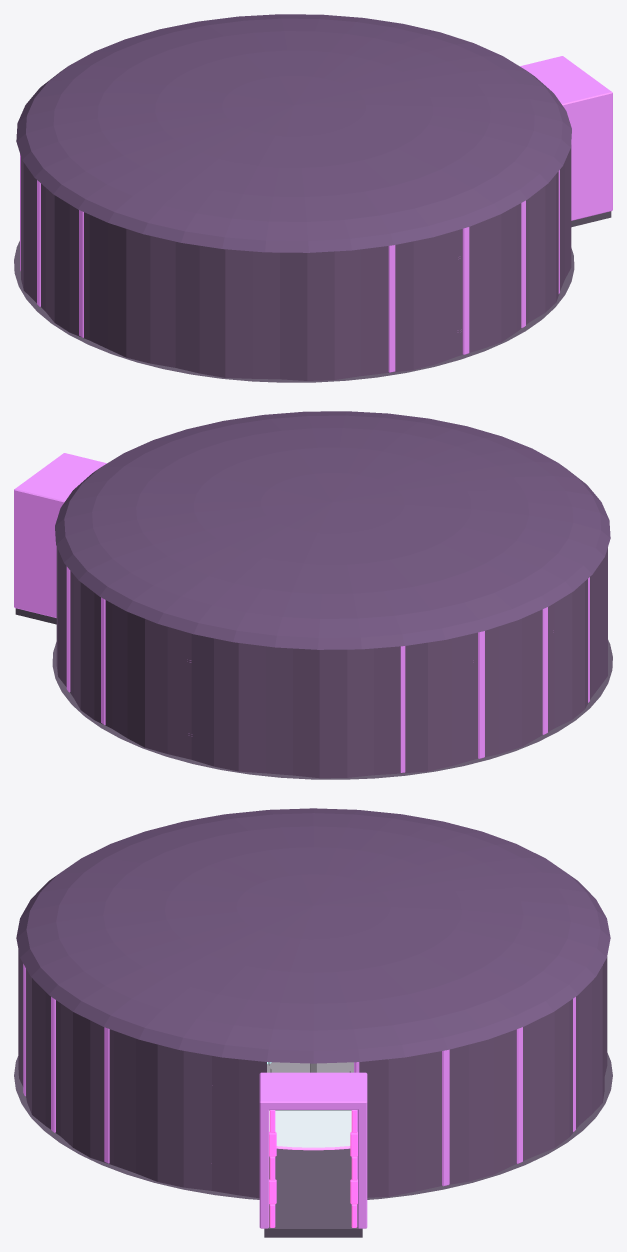
File: ship_hall.glb
3 views of the same model, one above another, from view 1: azimuth 30°, elevation 25°; view 2: azimuth 150°, elevation 25°; view 3: azimuth 270°, elevation 25° (orthographic). The views are drawn at different scales.
Visible parts, largest first — view 1: ms_hall_mesh; view 2: ms_hall_mesh; view 3: ms_hall_mesh, ms_pod_mesh.
Part boxes in pixels (bbox=[...]): ms_hall_mesh: bbox=[14, 14, 612, 382]; ms_hall_mesh: bbox=[14, 411, 612, 779]; ms_hall_mesh: bbox=[14, 808, 612, 1237]; ms_pod_mesh: bbox=[267, 1062, 353, 1072].
Size of the model in its own units: 28.3 by 8.47 by 25.6.
